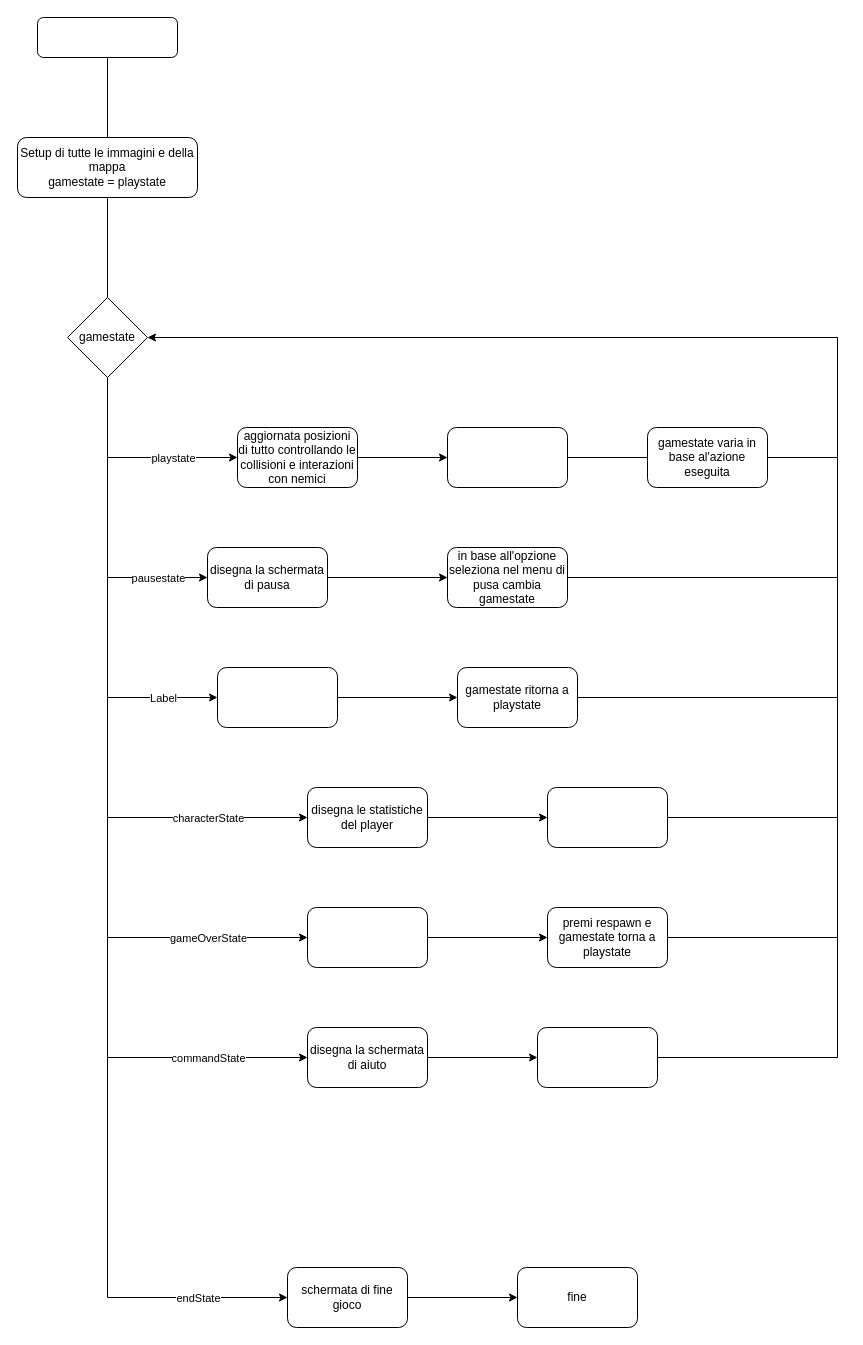
This 863x1345 diagram has some shape labels left out. Each missing label, with the centre of its shape:
disegna i dialoghi: point (277, 697)
disegna la schermata di morte del player: point (367, 937)
disegna tutti gli elementi: point (507, 457)
New Game: point (107, 37)
premi esc e ritorna gamestate a playstate: point (597, 1057)
se premuto esc si ritorna alla schermata di pausa: point (607, 817)
